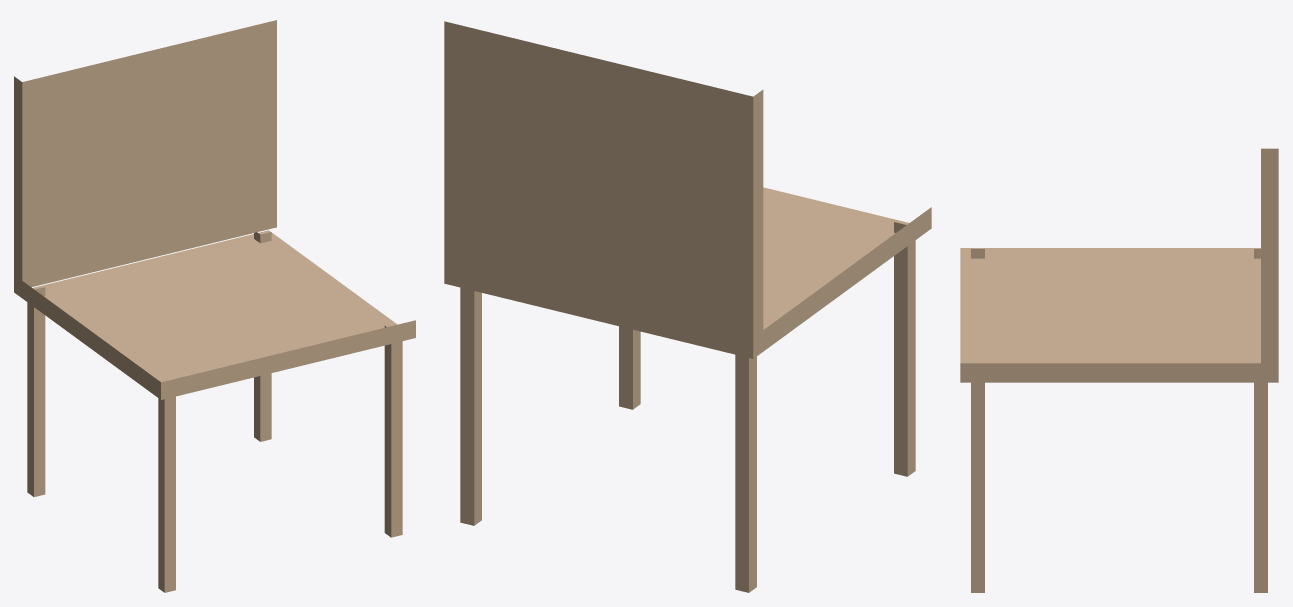
The model's file is outdoor_chair.glb.
The picture shows the model from 3 angles, left to right: view 1: azimuth 30°, elevation 25°; view 2: azimuth 150°, elevation 25°; view 3: azimuth 270°, elevation 25°; orthographic projection. The views are drawn at different scales.
Visible parts, largest first — view 1: RootNode; view 2: RootNode; view 3: RootNode.
Boxes of the visible parts, bbox=[...] form: RootNode: bbox=[14, 20, 415, 592]; RootNode: bbox=[444, 21, 931, 592]; RootNode: bbox=[960, 148, 1278, 592].
Bounding box in the file's own units: 1.8 × 2.8 × 1.8.
